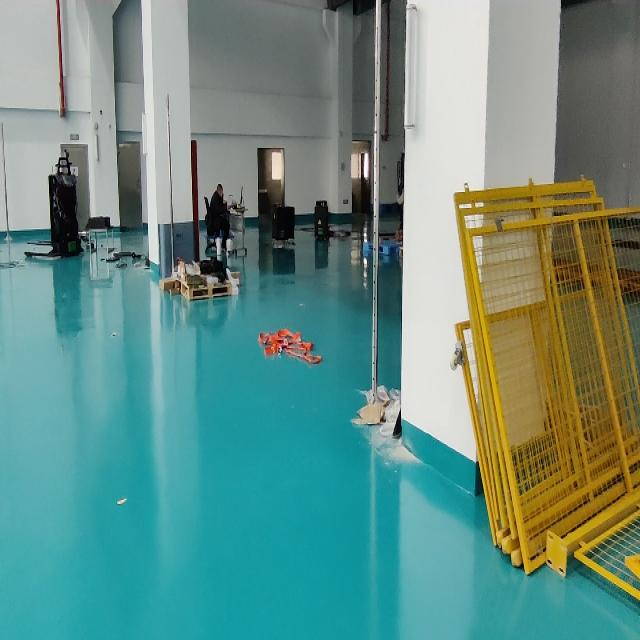euro: (179, 285, 238, 300)
